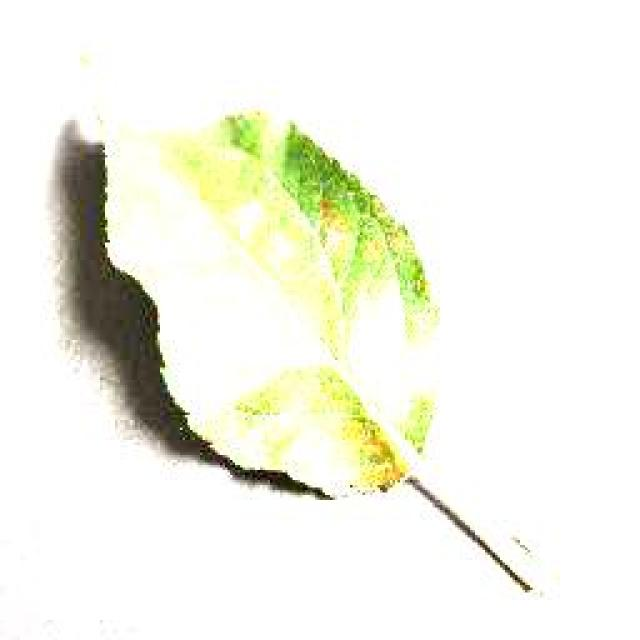Apple___Cedar_apple_rust: (73, 44, 450, 503)
